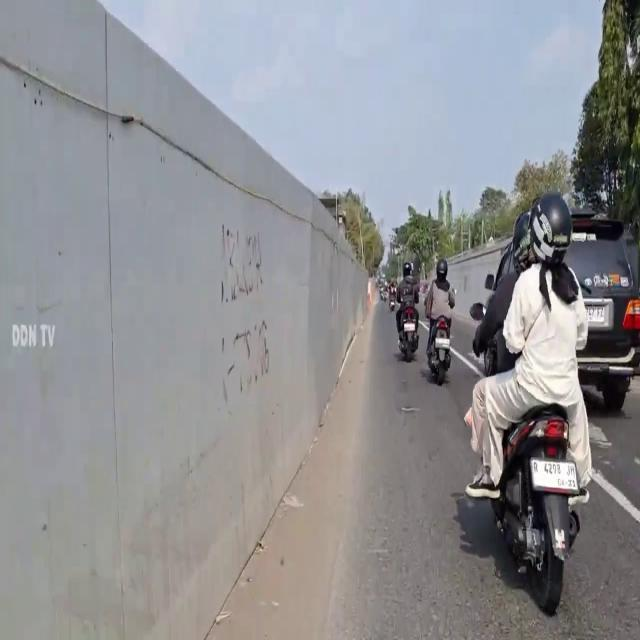WithHelmet: (466, 192, 593, 504), (471, 212, 539, 379), (423, 258, 456, 372), (395, 261, 420, 352)
